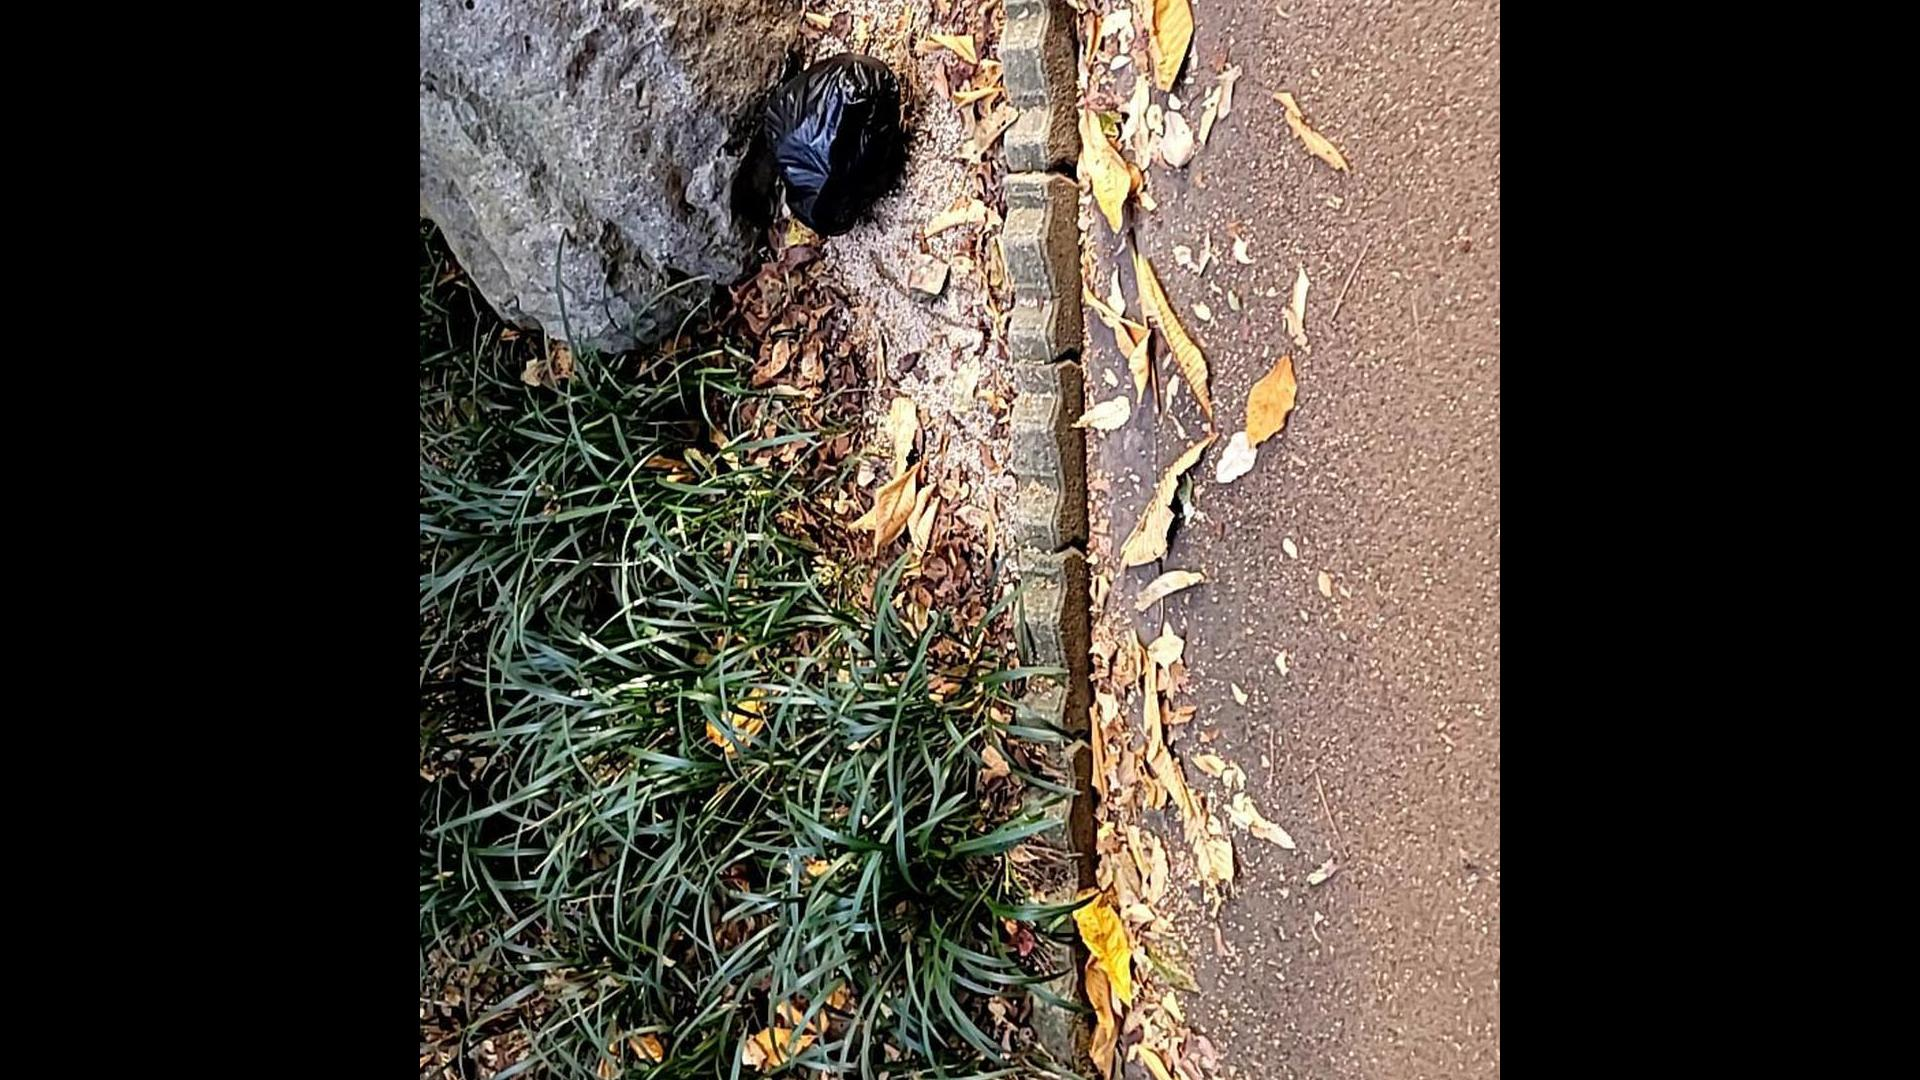black_bag: (725, 25, 934, 266)
